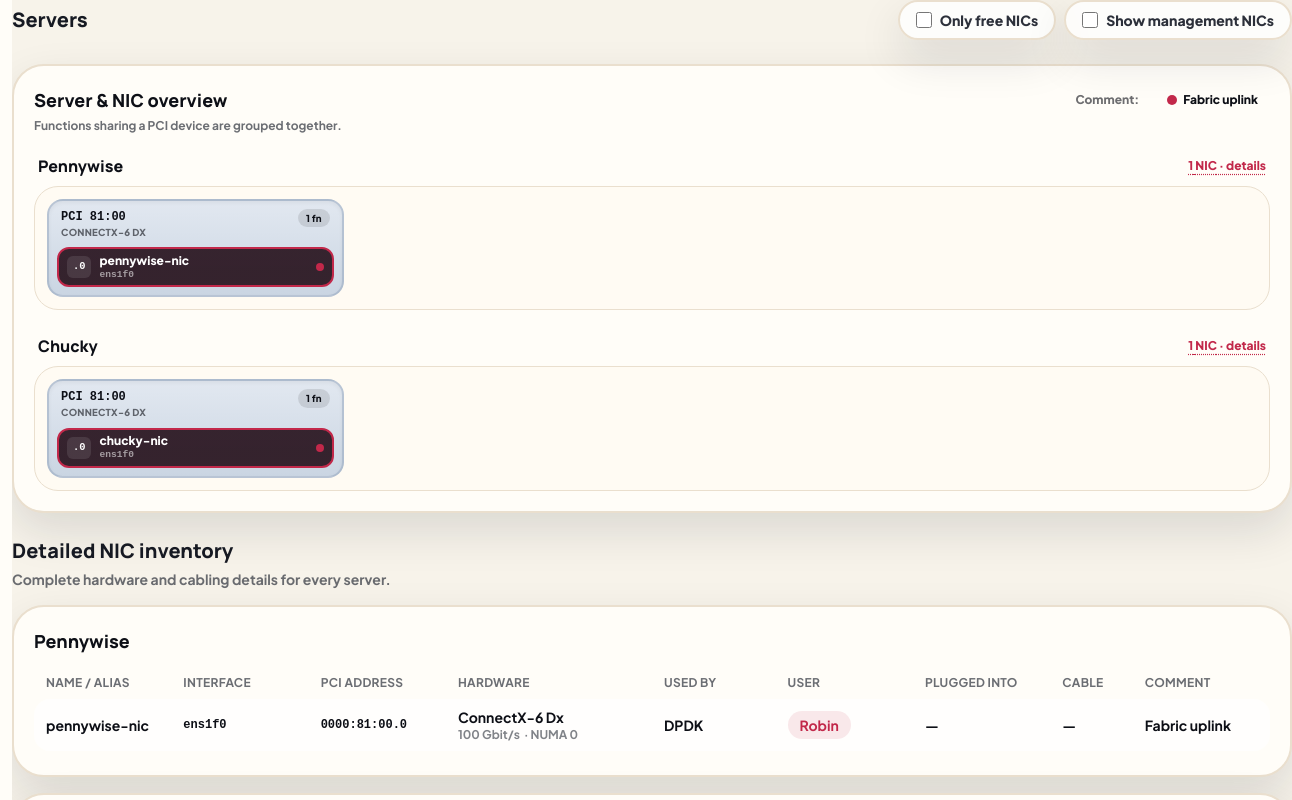
it: ServersPage › narrows the overview and tables to free NICs
expect the element named "Pennywise PCI adapter map" is shown: met, box [34,186,1270,310]
Click the checkbox labelled "Only free NICs" at point(924, 20), box [916,12,932,28]
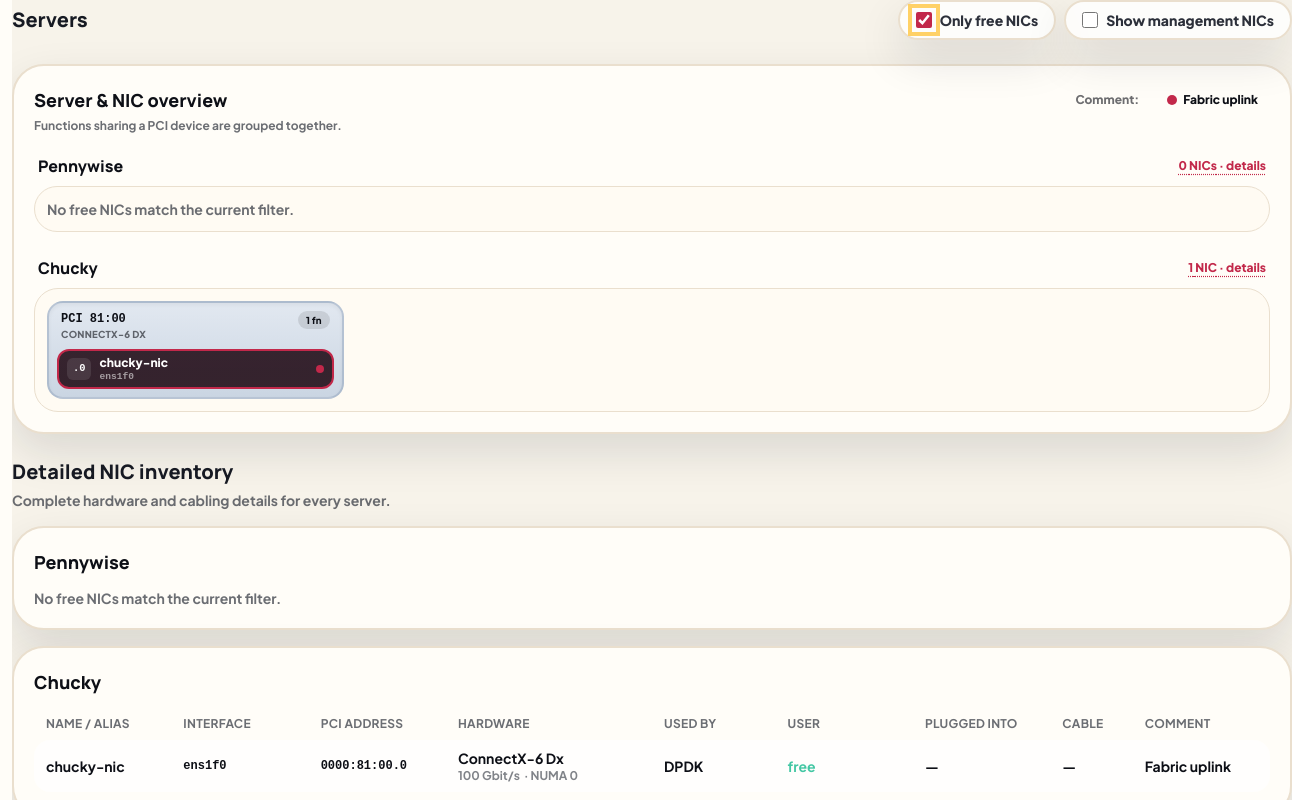
expect the element named "Chucky PCI adapter map" is shown: met, box [34,288,1270,412]
expect the text "No free NICs match the current filter." is shown 2 times: met, box [34,186,1270,232]; [34,589,281,607]
